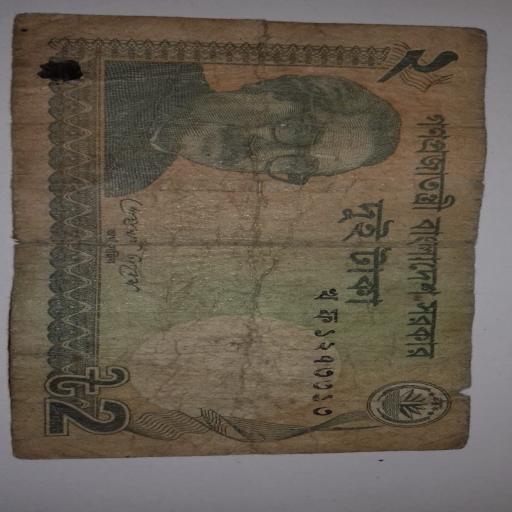2taka: (8, 14, 487, 458)
